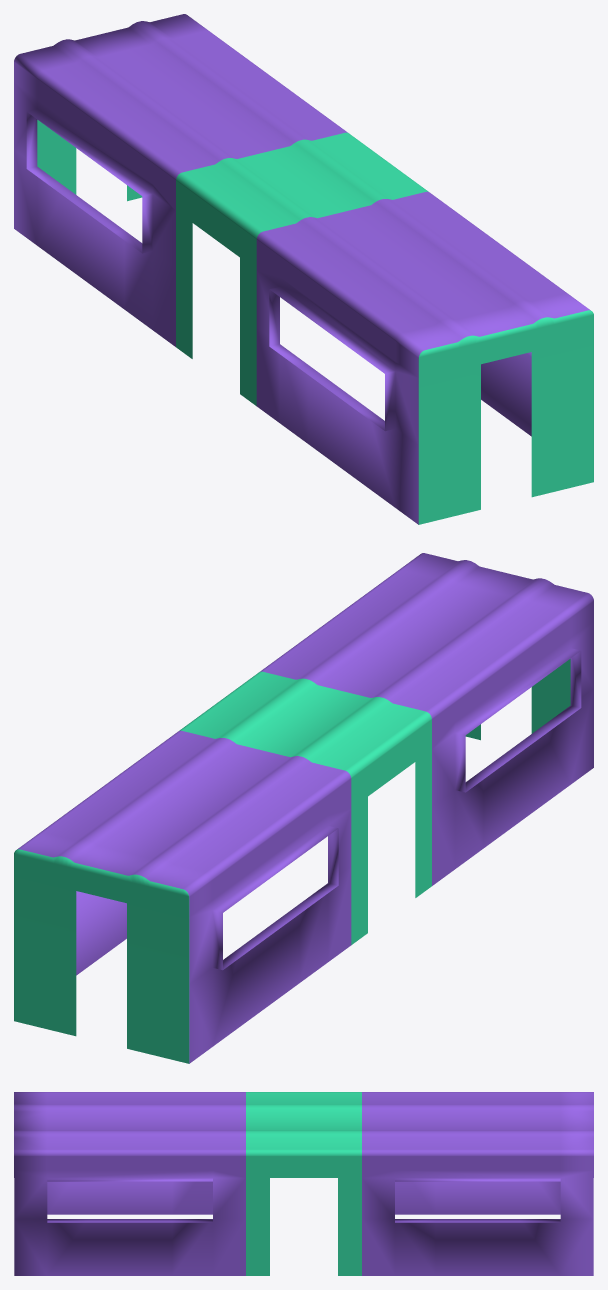
Rendered from SM_RearShell.fbx.
3 renders of one model, top to bottom at view 1: azimuth 30°, elevation 25°; view 2: azimuth 150°, elevation 25°; view 3: azimuth 270°, elevation 25°, orthographic. The views are drawn at different scales.
Parts seen in each view (by area): view 1: SM_RearShell; view 2: SM_RearShell; view 3: SM_RearShell.
Part boxes in pixels (x1,y1,x2,y2): SM_RearShell: (14,14,593,524); SM_RearShell: (14,553,593,1063); SM_RearShell: (14,1092,593,1275).
Size of the model in its own units: 2.8 by 2.41 by 10.01.
